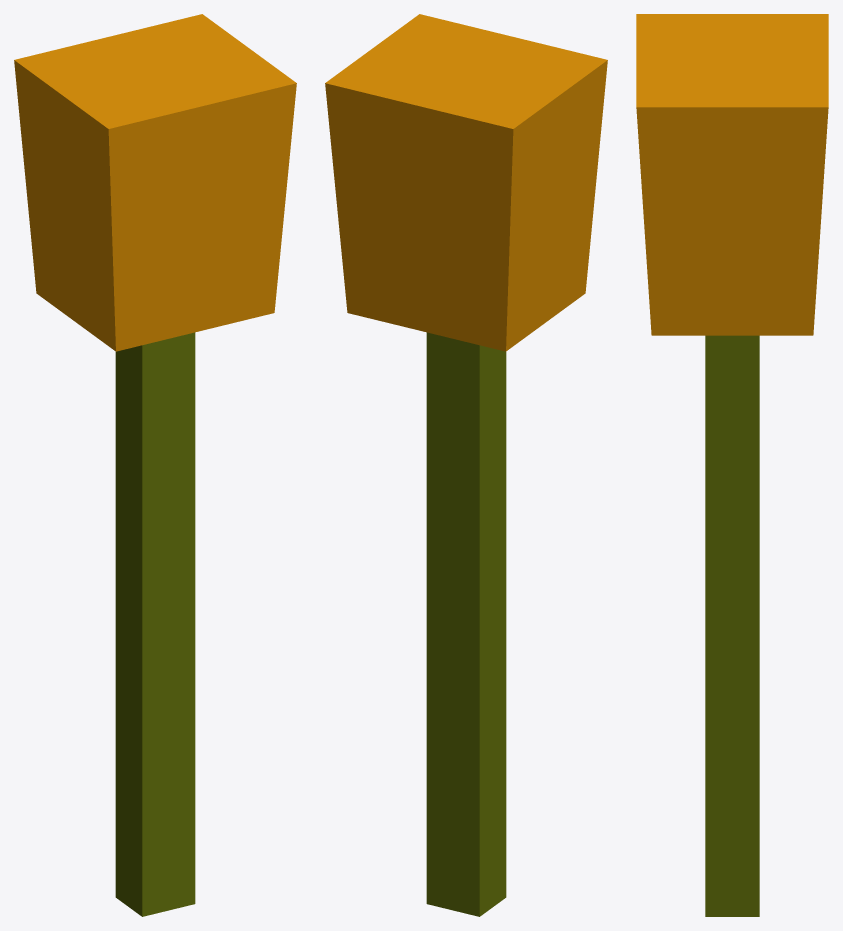
Rendered from CityFlower_03.fbx.
The picture shows the model from 3 angles, left to right: view 1: azimuth 30°, elevation 25°; view 2: azimuth 150°, elevation 25°; view 3: azimuth 270°, elevation 25°; orthographic projection.
Parts seen in each view (by area): view 1: CityFlower_03; view 2: CityFlower_03; view 3: CityFlower_03.
Boxes of the visible parts, x1,y1,x2,y2 form: CityFlower_03: [14, 14, 296, 916]; CityFlower_03: [325, 14, 607, 916]; CityFlower_03: [636, 14, 828, 916].
Size of the model in its own units: 0.0199 by 0.0838 by 0.0173.
